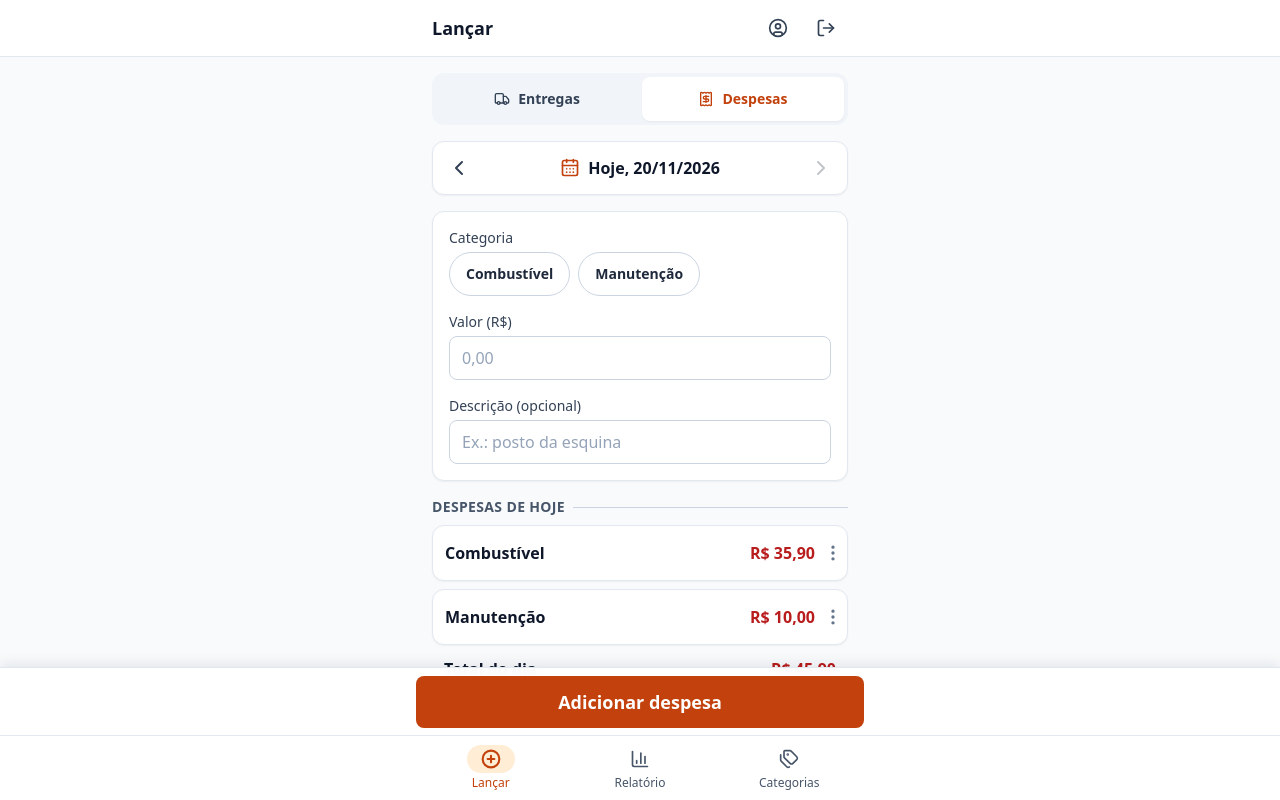
Test case: Lançar › Despesas › editar valor no BottomSheet e excluir com confirmação
Expected: the text with test id "total-despesas-dia" reads "R$ 45,90", [771,658,836,680]
Click the button with aria-label "Editar despesa Combustível, R$ 35,90": point(495, 553) [432,525,848,581]
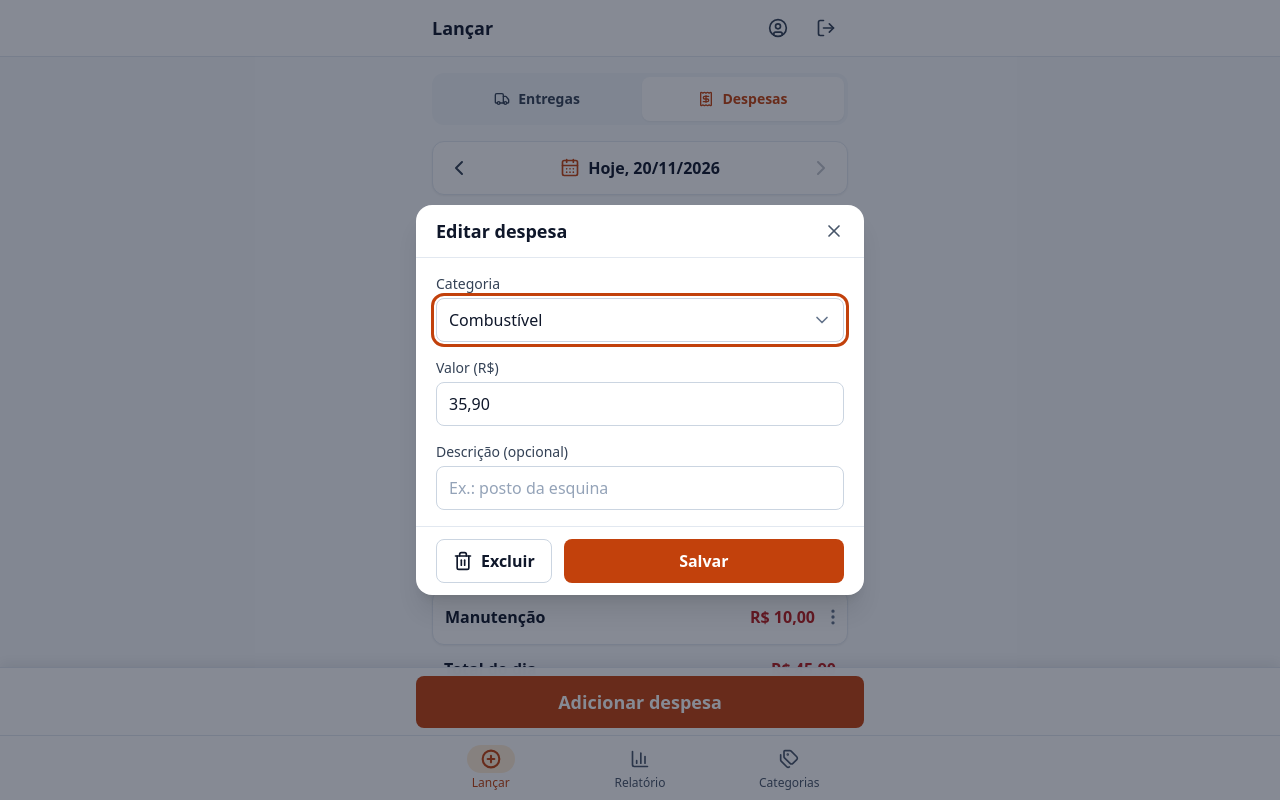
Expected: the dropdown labelled "Categoria" shows "Combustível", [436,298,844,342]
Expected: the field labelled "Valor (R$)" holds "35,90"
Replace the text in the field labelled "Valor (R$)" with "40": point(640, 404) [436,382,844,426]
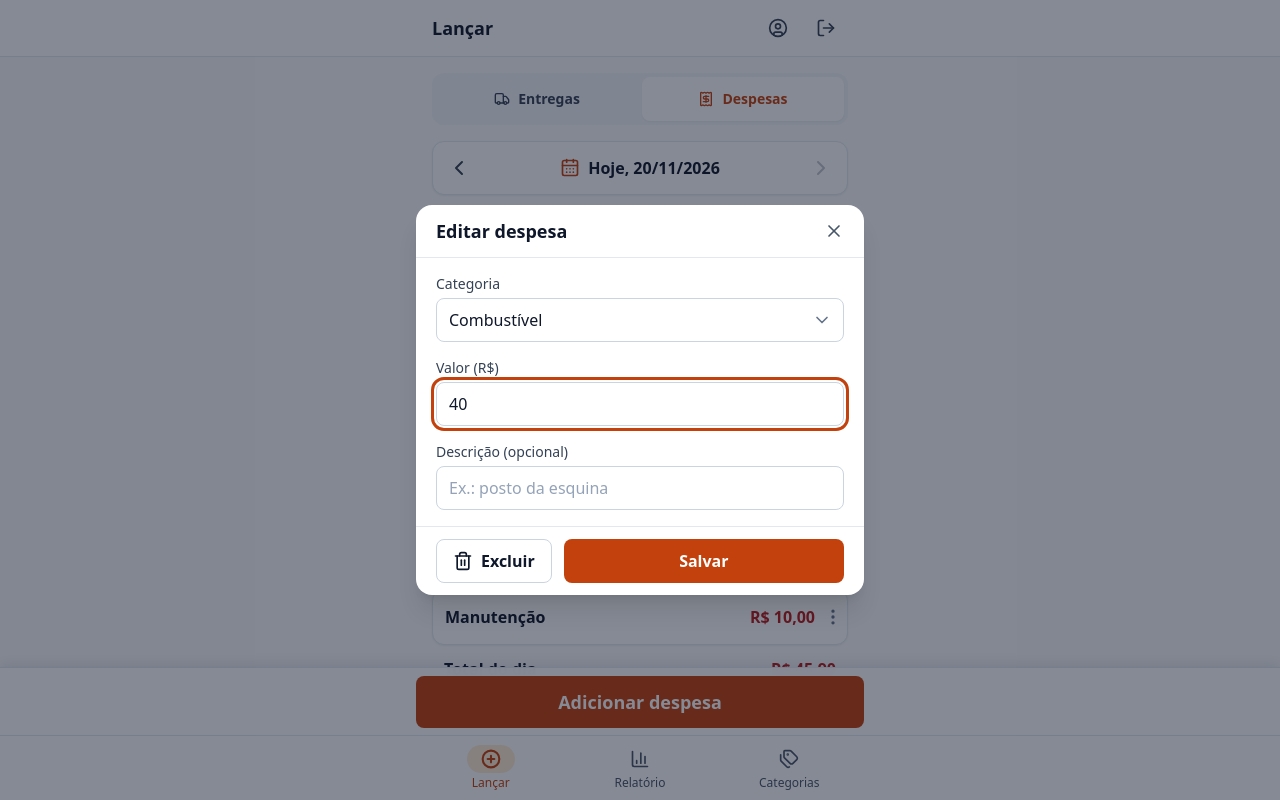
Click the button "Salvar": point(704, 561) [564,539,844,583]
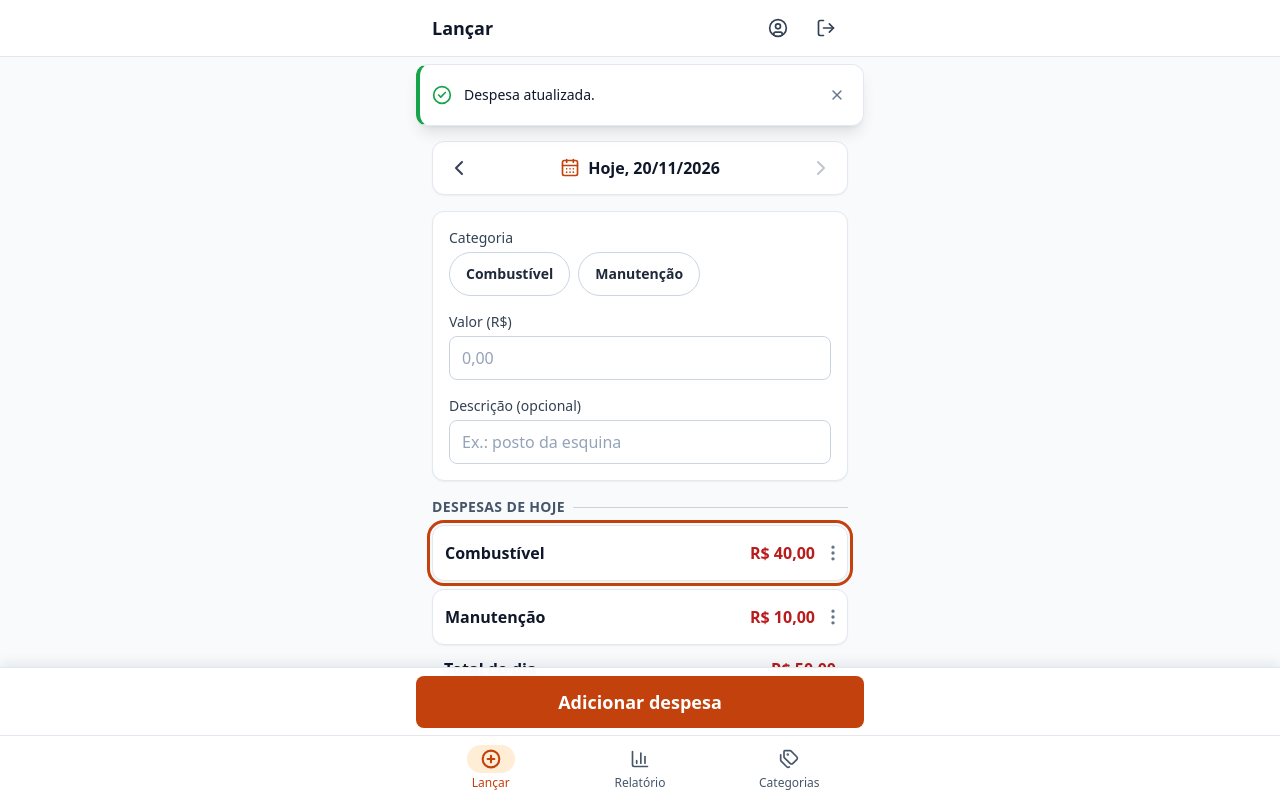
Expected: the text "Despesa atualizada." is shown, [464,85,595,104]
Expected: the text with test id "total-despesas-dia" reads "R$ 50,00", [771,658,836,680]
Click the button with aria-label "Editar despesa Manutenção": point(495, 617) [432,589,848,645]
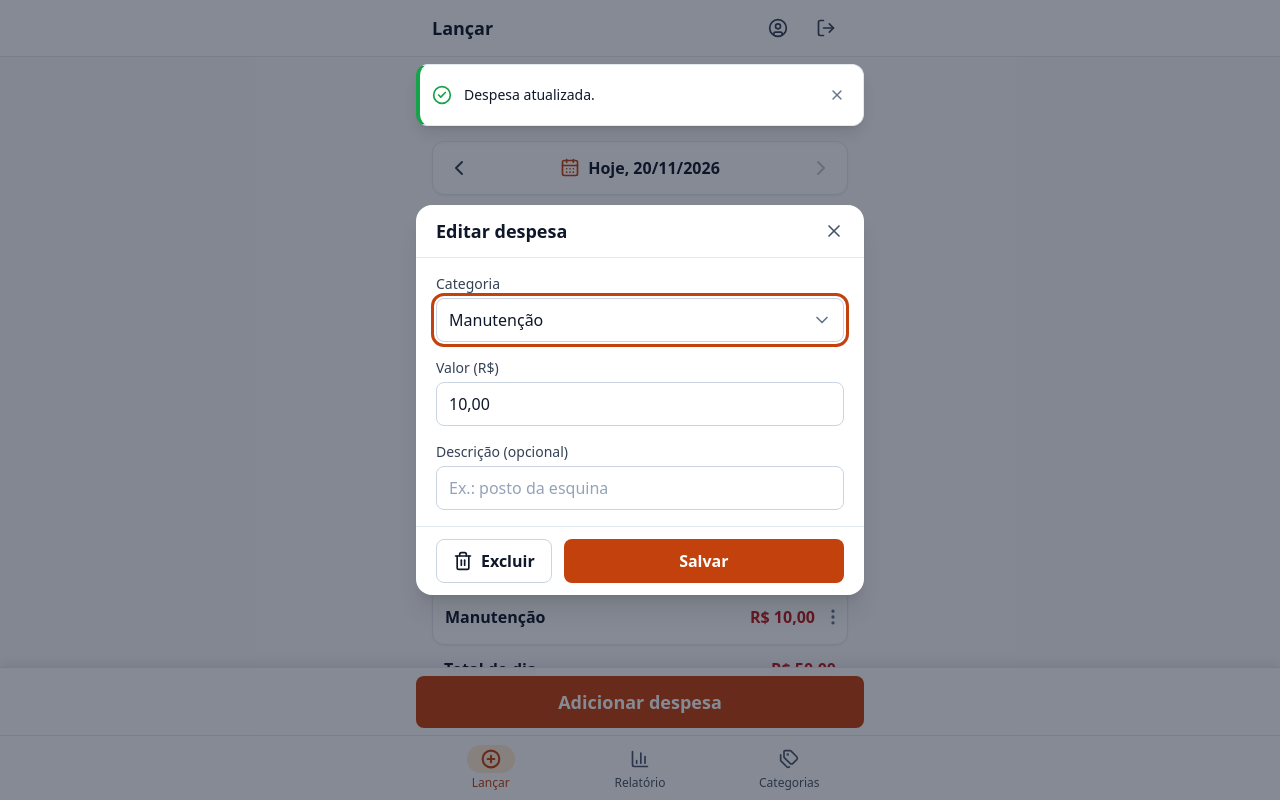
Click the button "Excluir": point(494, 561) [436,539,552,583]
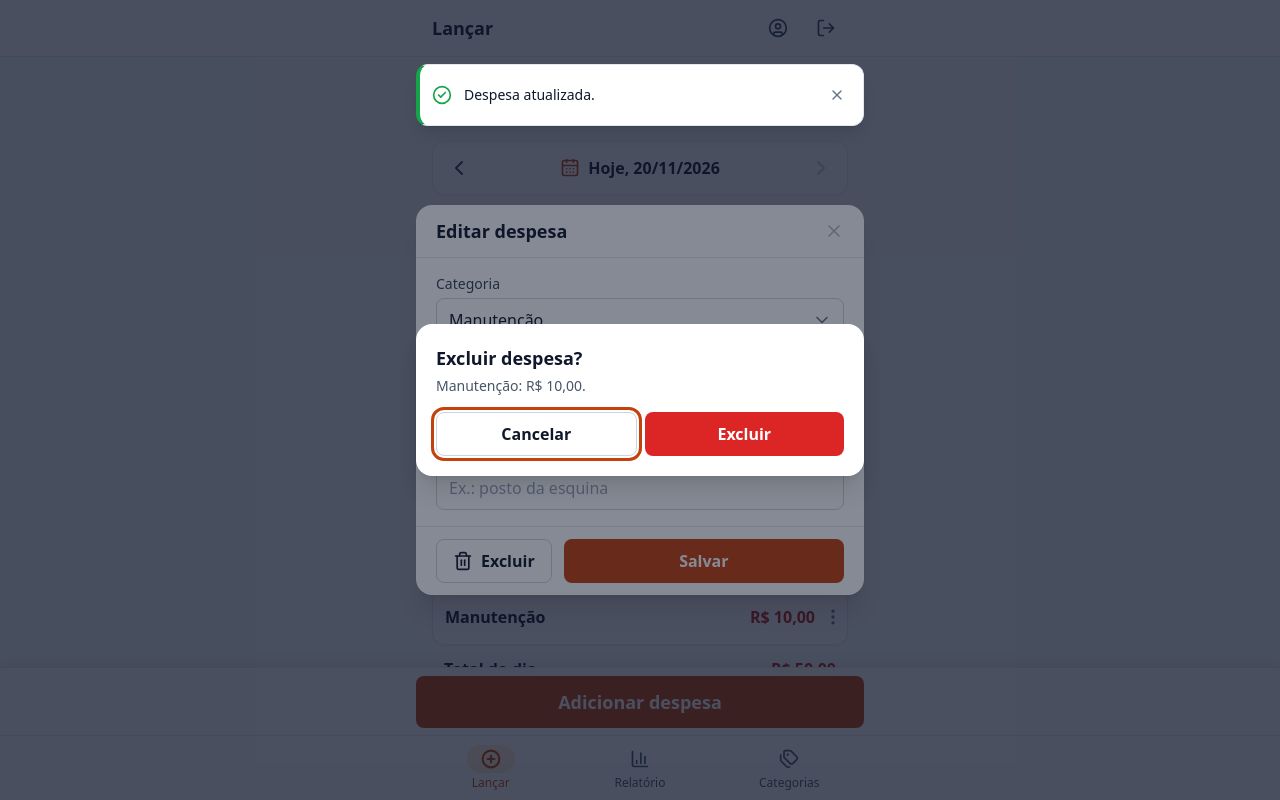
Click the button "Excluir": point(744, 434) [644,412,844,456]
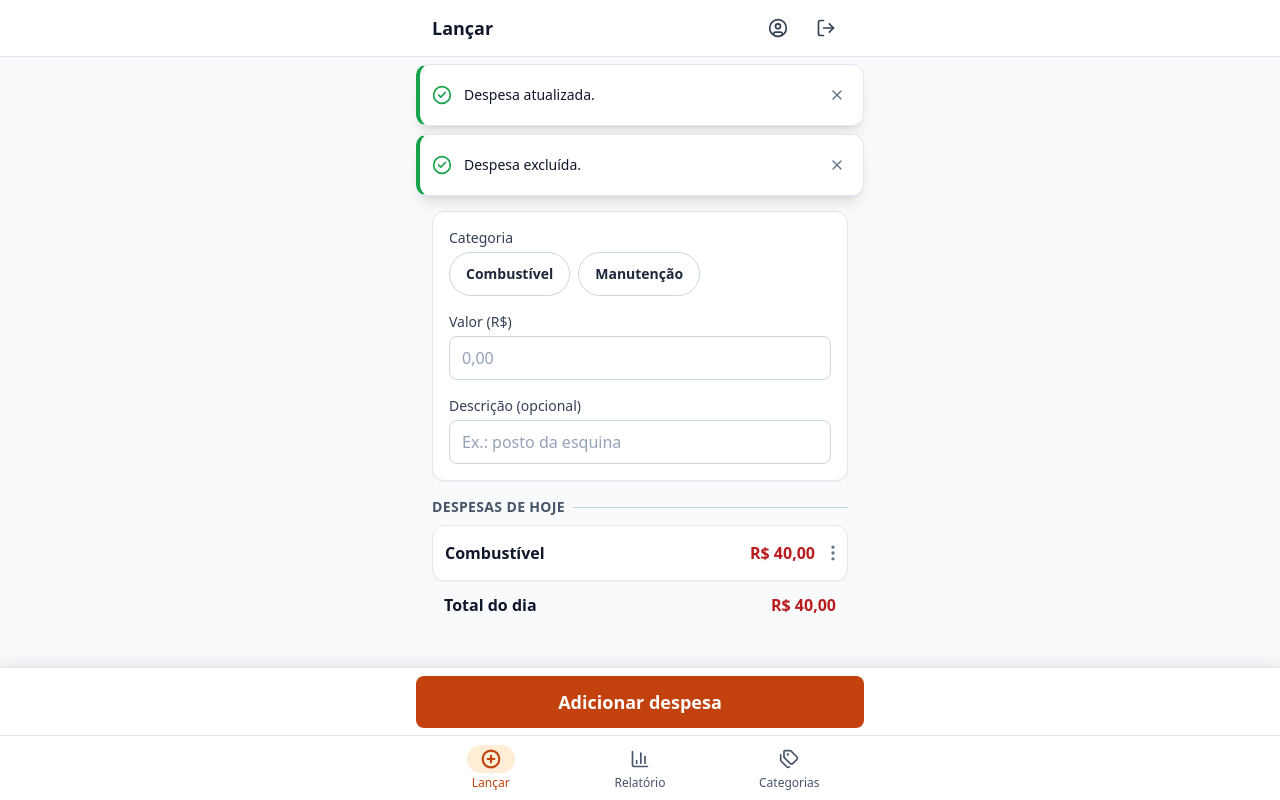
Expected: the text "Despesa excluída." is shown, [464,155,581,174]
Expected: the text with test id "total-despesas-dia" reads "R$ 40,00", [771,594,836,616]
